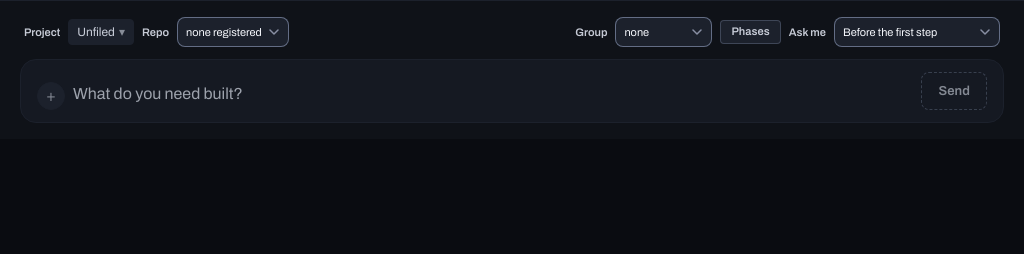
Test case: studio#275: the discipline skill on the composer › a 422 base_skill_refused renders the typed card with the remedy, not a bare sentence
Type "write up the offsite agenda" into the text box with test id "launch-problem" at (493, 96), box [73,82,914,110]
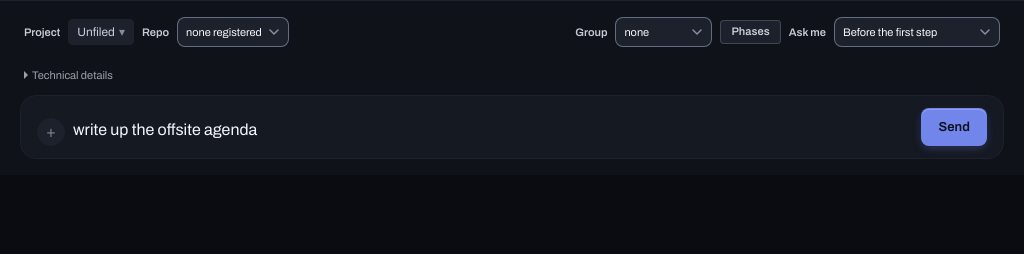
Result: the button with test id "launch-submit" is enabled
Click the button with test id "launch-submit" at (954, 127), box [922,108,987,146]
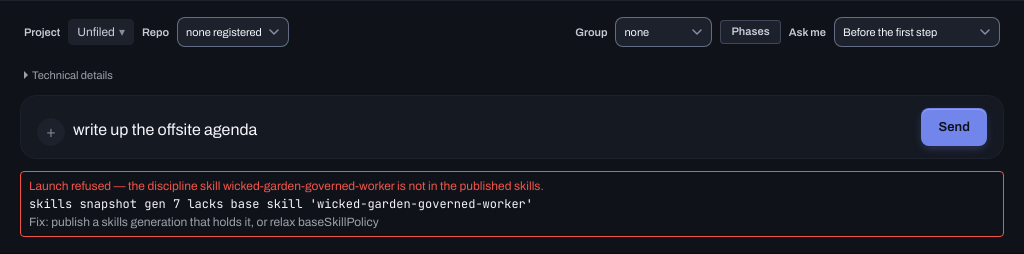
Result: the element with test id "launch-base-skill-refused" shows "wicked-garden-governed-worker" at [220,179,395,193]
Result: the element with test id "launch-base-skill-refused" shows "lacks base skill" at [29,196,533,212]
Result: the text with test id "launch-base-skill-remedy" reads "Fix: publish a skills generation that holds it, or relax baseSkillPolicy" at [29,215,379,229]
